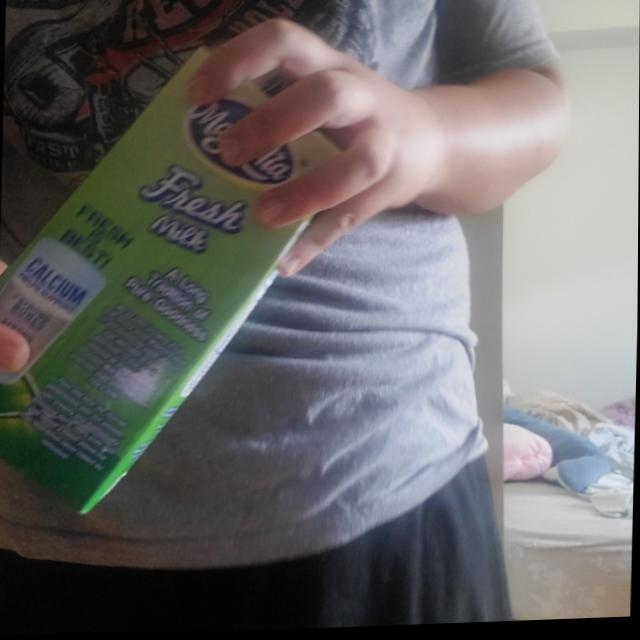milk: (0, 40, 356, 527)
